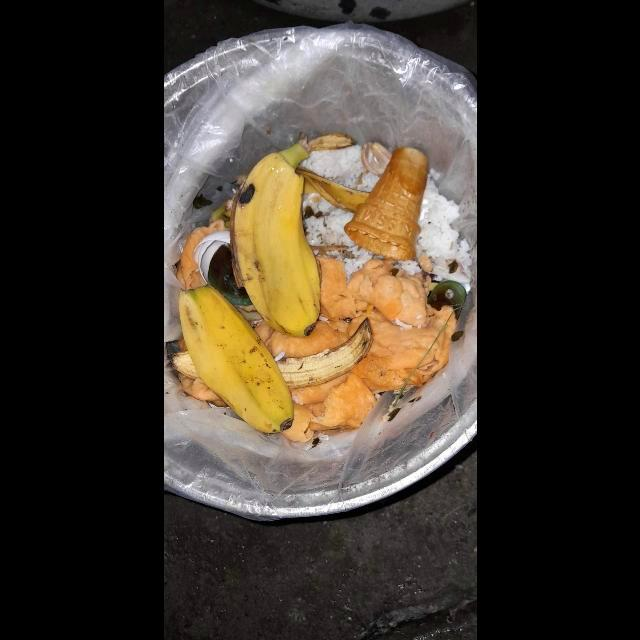left_over_food: (346, 148, 428, 258), (300, 181, 371, 282), (276, 373, 378, 442), (416, 178, 470, 285), (304, 142, 376, 191)
